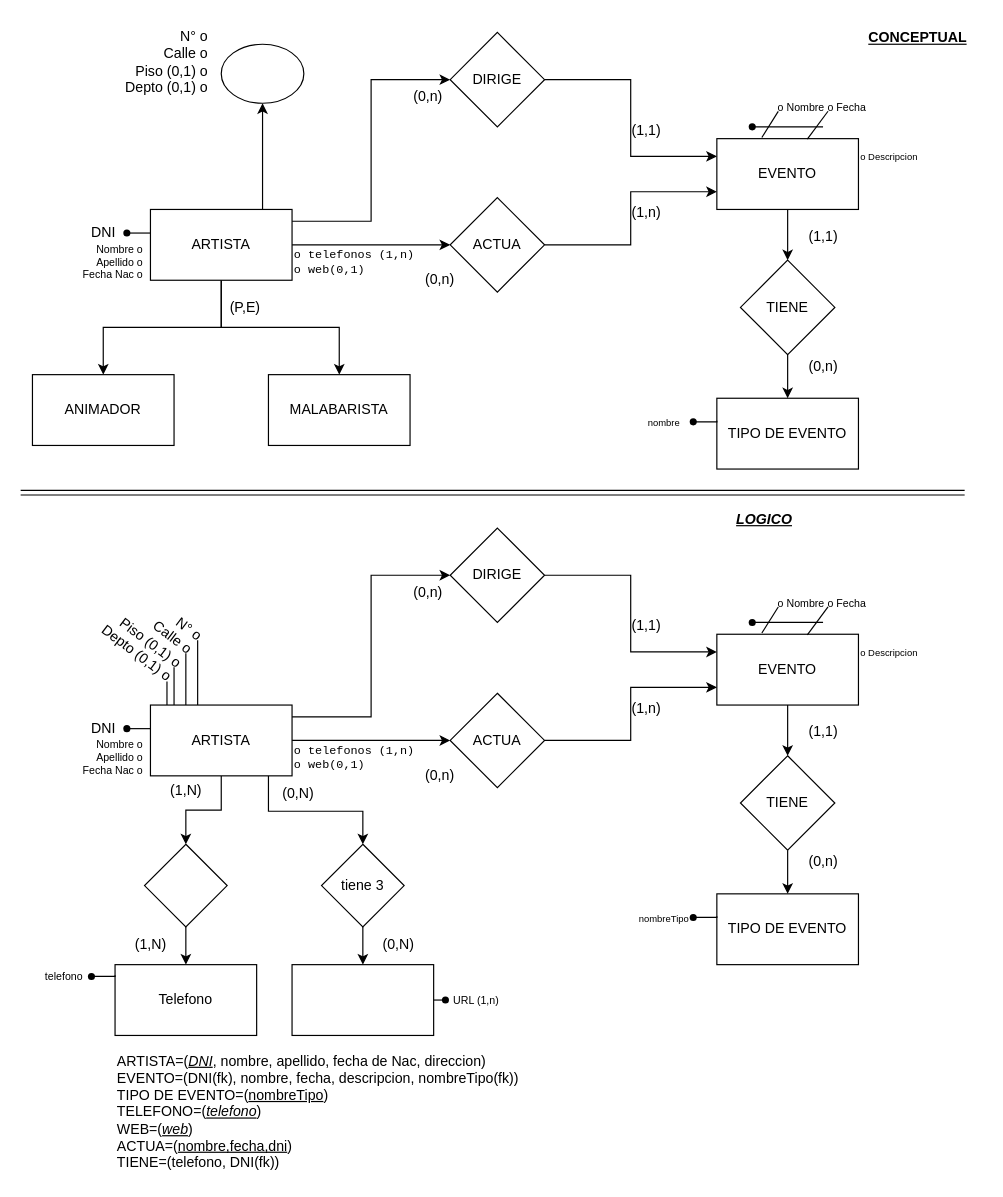
Image size: 1003x1197. Some labels were removed from this diagram. Here are the shapes that lost their labels. From the top down, the centre of each, then its label:
At pixel 262 73: "Direccion".
At pixel 185 885: "tiene 2".
At pixel 362 999: "Web".
